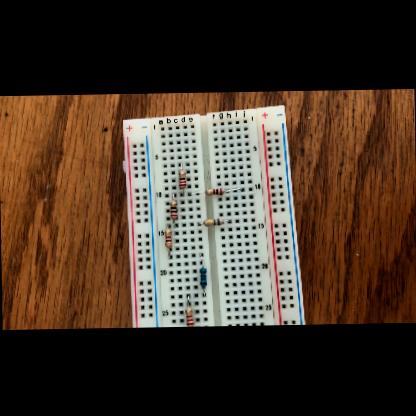breadboard: (121, 104, 305, 326)
resistor: (185, 306, 193, 326), (178, 168, 186, 187), (202, 217, 221, 225), (205, 186, 224, 194), (199, 265, 206, 285), (164, 227, 171, 246), (170, 198, 177, 217)
wire: (224, 186, 243, 190), (200, 252, 204, 266), (168, 247, 172, 256), (188, 190, 204, 192), (172, 218, 176, 225), (188, 294, 190, 306), (202, 286, 205, 294), (222, 218, 230, 220), (179, 161, 181, 168), (182, 188, 184, 195), (173, 192, 175, 198), (198, 221, 202, 223), (166, 223, 168, 226)
